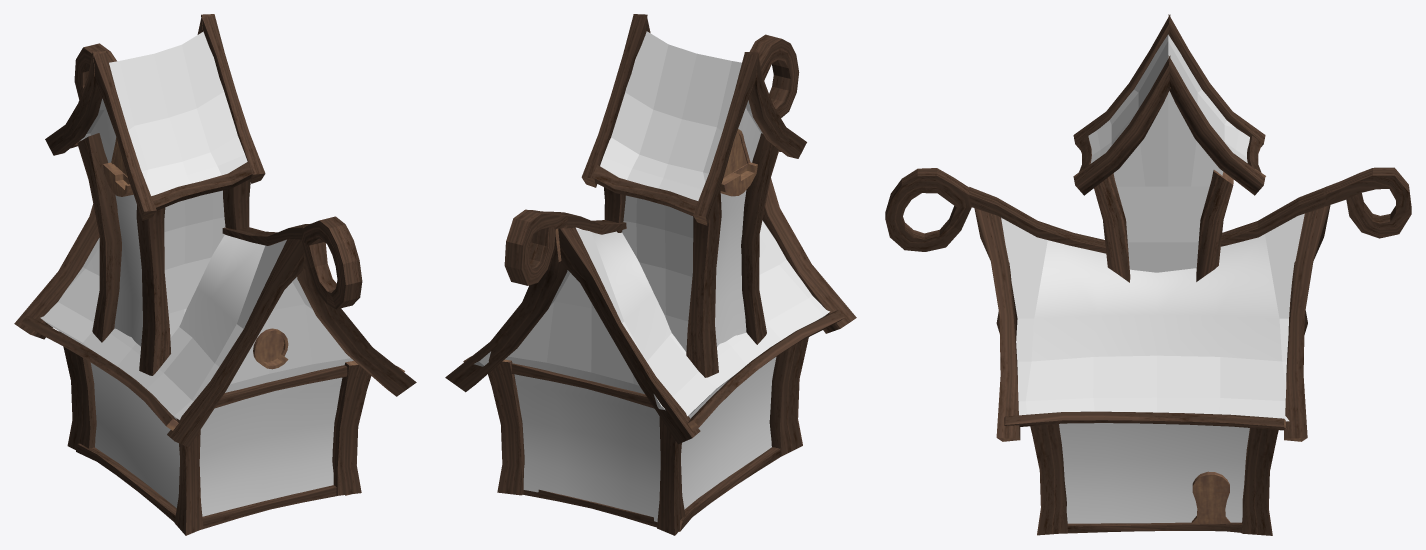
The model's file is classic3.fbx.
3 views of the same model, side by side, from view 1: azimuth 30°, elevation 25°; view 2: azimuth 150°, elevation 25°; view 3: azimuth 270°, elevation 25° (orthographic). The views are drawn at different scales.
Parts seen in each view (by area): view 1: Object1586, Box1341, Object1529, Object1587, Object1581, Object1532, Object1528, Object1573, Object1494, Object1491, Object1531, Object1583 (+14 smaller); view 2: Object1586, Object1529, Box1341, Object1587, Object1583, Object1532, Object1582, Object1528, Object1572, Object1574, Object1579, Object1581 (+13 smaller); view 3: Box1341, Object1586, Object1587, Object1582, Object1494, Object1529, Object1573, Box1340, Object1572, Object1495, Object1537, Object1538 (+8 smaller).
Boxes of the visible parts, x1,y1,x2,y2 form: Object1586: [90, 282, 353, 516]; Box1341: [40, 234, 318, 419]; Object1529: [80, 31, 247, 195]; Object1587: [90, 107, 225, 346]; Object1581: [167, 238, 304, 447]; Object1532: [77, 133, 121, 342]; Object1528: [136, 205, 170, 375]; Object1573: [301, 216, 362, 309]; Object1494: [297, 253, 416, 396]; Object1491: [332, 361, 371, 495]; Object1531: [92, 51, 156, 220]; Object1583: [14, 204, 99, 339]; Object1586: [505, 273, 776, 521]; Object1529: [600, 31, 762, 200]; Box1341: [474, 220, 829, 416]; Object1587: [622, 107, 760, 351]; Object1583: [558, 227, 700, 444]; Object1532: [686, 187, 721, 377]; Object1582: [445, 228, 567, 392]; Object1528: [741, 133, 779, 344]; Object1572: [504, 209, 567, 285]; Object1574: [488, 359, 524, 495]; Object1579: [769, 337, 808, 456]; Object1581: [762, 178, 856, 333]; Box1341: [1001, 213, 1304, 421]; Object1586: [1059, 423, 1249, 523]; Object1587: [1113, 91, 1223, 272]; Object1582: [1284, 205, 1330, 441]; Object1494: [974, 208, 1020, 441]; Object1529: [1088, 34, 1249, 163]; Object1573: [885, 168, 971, 251]; Box1340: [969, 187, 1326, 253]; Object1572: [1323, 167, 1411, 238]; Object1495: [1004, 411, 1286, 430]; Object1537: [1073, 55, 1170, 195]; Object1538: [1168, 55, 1265, 195].
Size of the model in its own units: 462 by 825 by 897.
